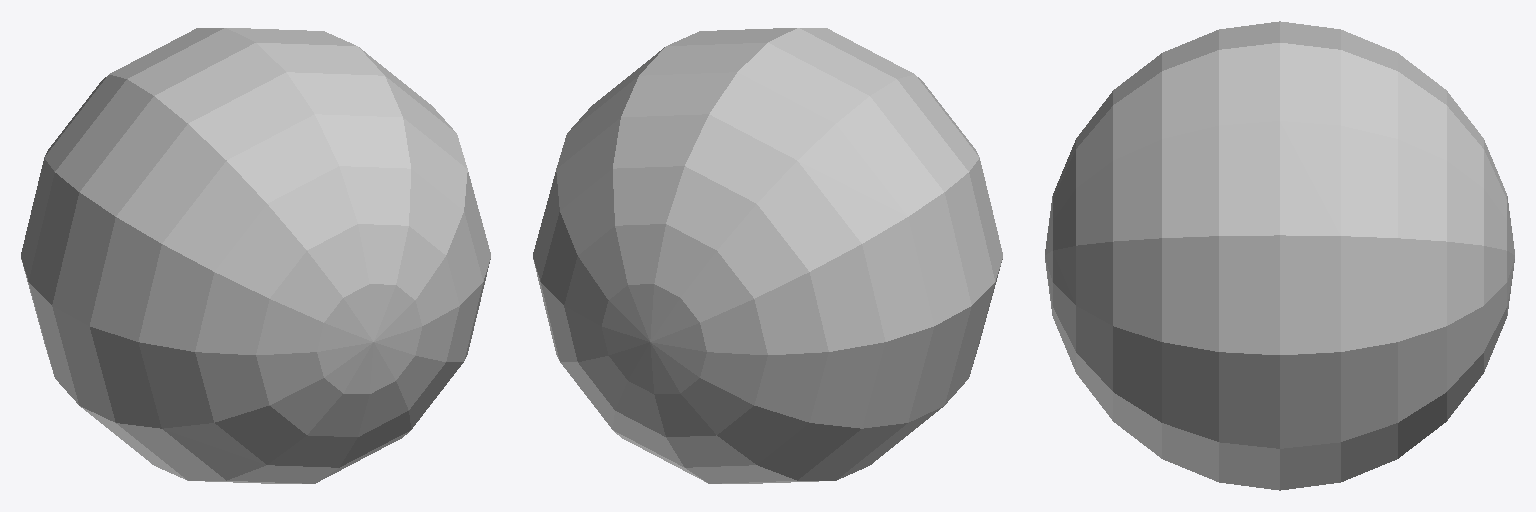
File: Uth_Eye_Lt_MshShape.obj
3 views of the same model, side by side, from view 1: azimuth 30°, elevation 25°; view 2: azimuth 150°, elevation 25°; view 3: azimuth 270°, elevation 25° (orthographic).
Visible parts, largest first — view 1: Uth_Eye_Lt_Msh Head_Grp SkinnedMesh Mesh CharacterRoot; view 2: Uth_Eye_Lt_Msh Head_Grp SkinnedMesh Mesh CharacterRoot; view 3: Uth_Eye_Lt_Msh Head_Grp SkinnedMesh Mesh CharacterRoot.
Part boxes in pixels (bbox=[...]): Uth_Eye_Lt_Msh Head_Grp SkinnedMesh Mesh CharacterRoot: bbox=[21, 28, 490, 483]; Uth_Eye_Lt_Msh Head_Grp SkinnedMesh Mesh CharacterRoot: bbox=[533, 28, 1002, 483]; Uth_Eye_Lt_Msh Head_Grp SkinnedMesh Mesh CharacterRoot: bbox=[1045, 21, 1514, 490].
Size of the model in its own units: 3.98 by 3.98 by 3.98.